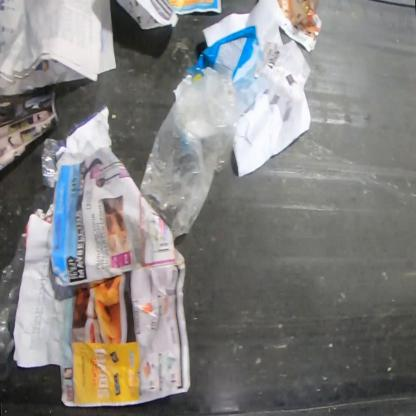soft_plastic: (138, 74, 235, 236), (184, 25, 272, 124), (0, 228, 27, 382), (33, 138, 66, 210)
